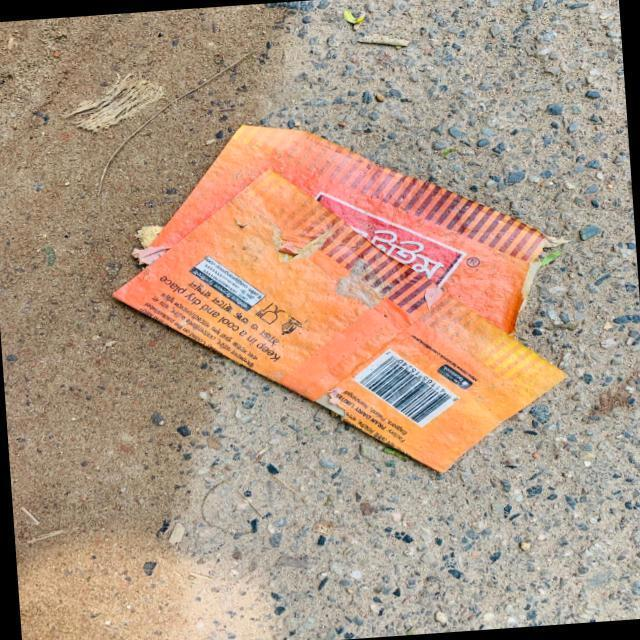packet: (177, 135, 516, 447)
